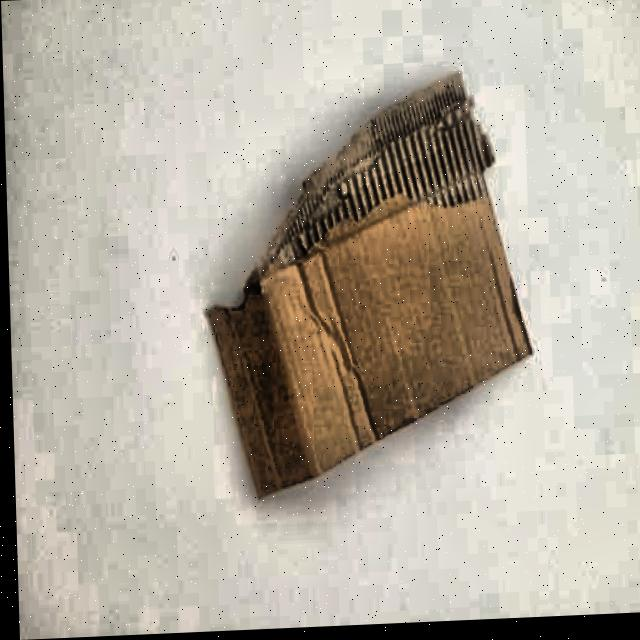cardboard: (198, 70, 538, 505)
